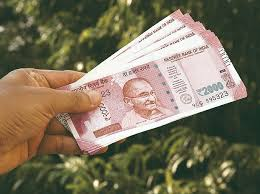twoThousand: (89, 77, 235, 129)
